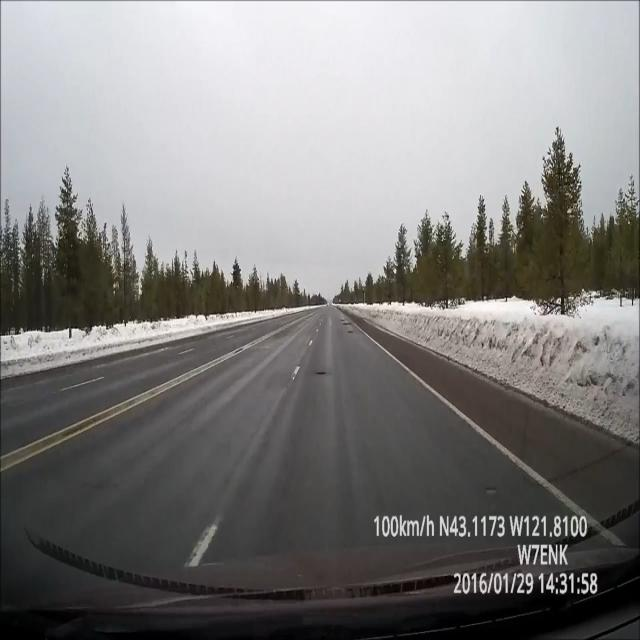Pothole: (309, 356, 332, 383)
